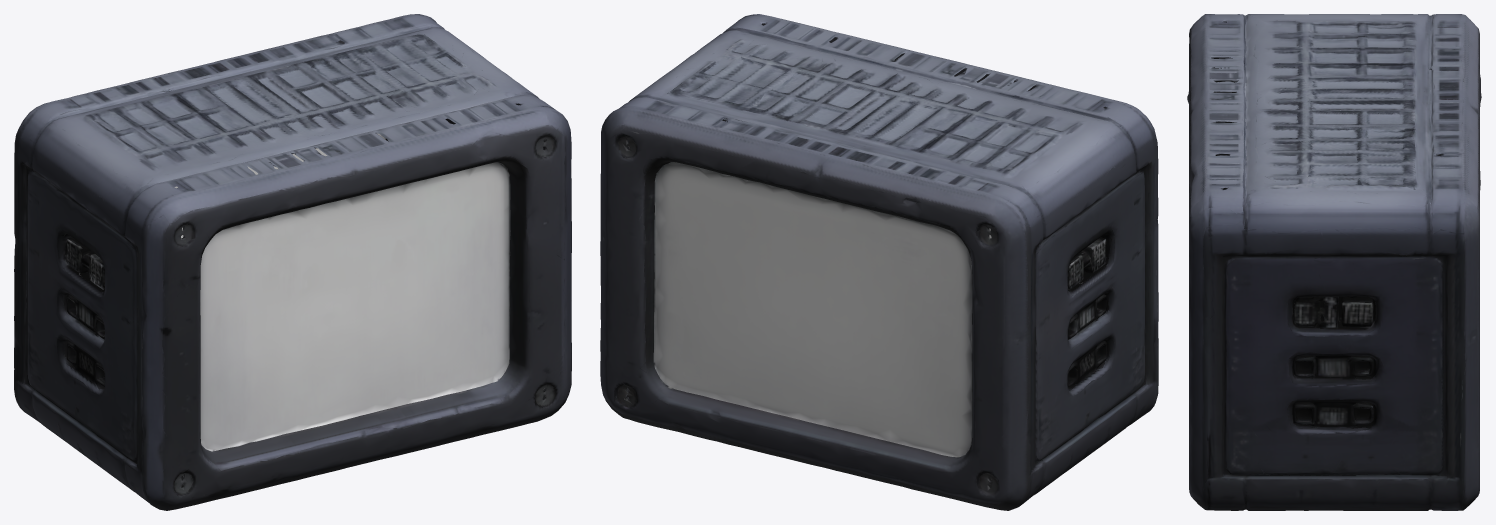
File: serverroom_BackupDrive.glb
3 renders of one model, left to right at view 1: azimuth 30°, elevation 25°; view 2: azimuth 150°, elevation 25°; view 3: azimuth 270°, elevation 25°, orthographic.
Parts seen in each view (by area): view 1: world; view 2: world; view 3: world.
Boxes of the visible parts, x1=… form: world: x1=14, y1=14, x2=571, y2=510; world: x1=600, y1=14, x2=1158, y2=510; world: x1=1187, y1=14, x2=1481, y2=510.
Bounding box in the file's own units: 1 × 0.7054 × 0.5946.
1 material, 1 textured.
